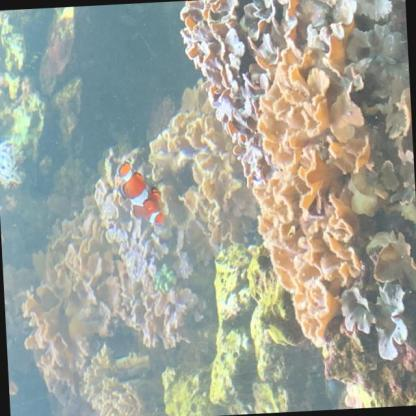fish: (116, 158, 166, 228)
